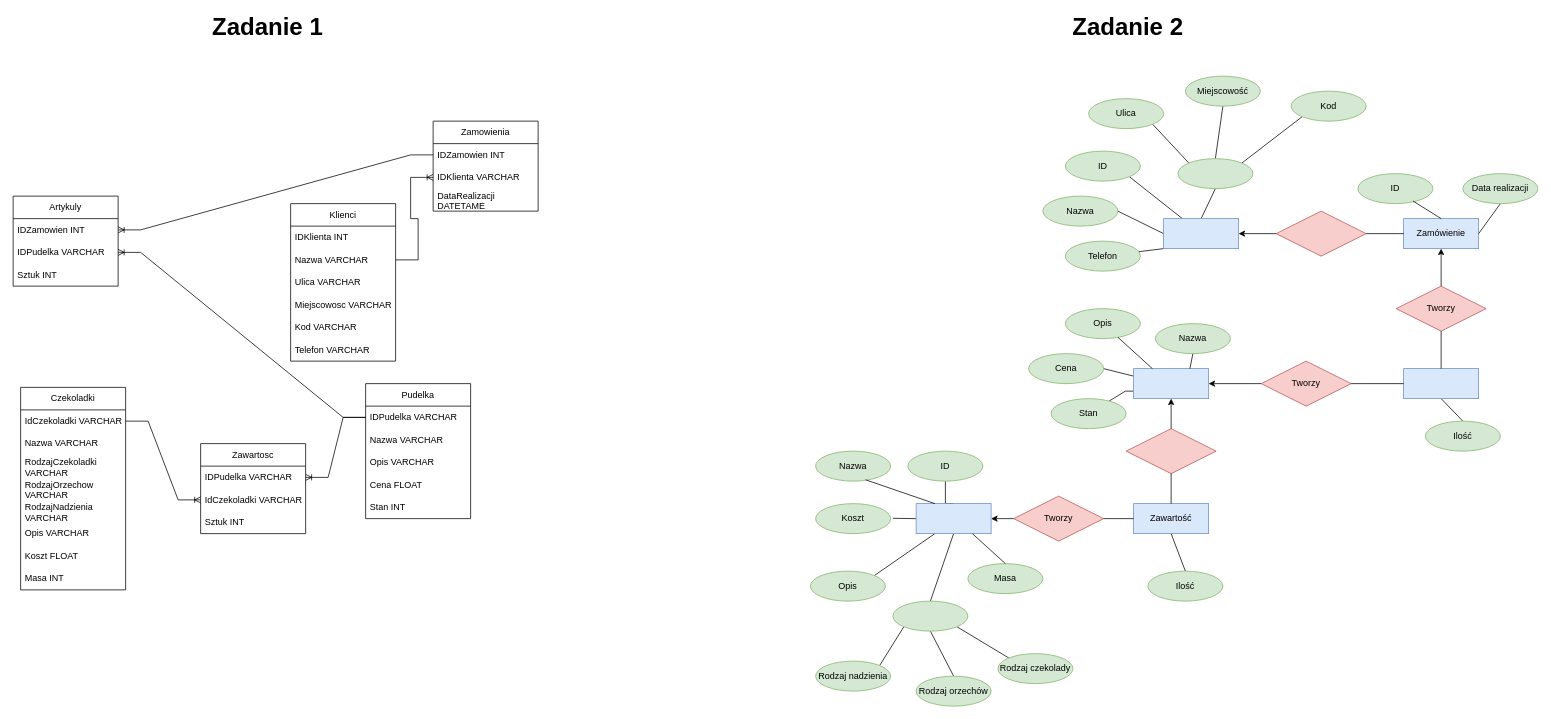
This 1551x719 diagram has some shape labels left out. Each missing label, with the centre of its shape:
"Adres" belongs at [1215,173].
"Artykuł" belongs at [1441,383].
"Czekoladka" belongs at [953,518].
"Klient" belongs at [1201,233].
"Posiada" belongs at [1170,451].
"Pudełko" belongs at [1171,383].
"Skład" belongs at [930,615].
"Składa" belongs at [1320,233].
